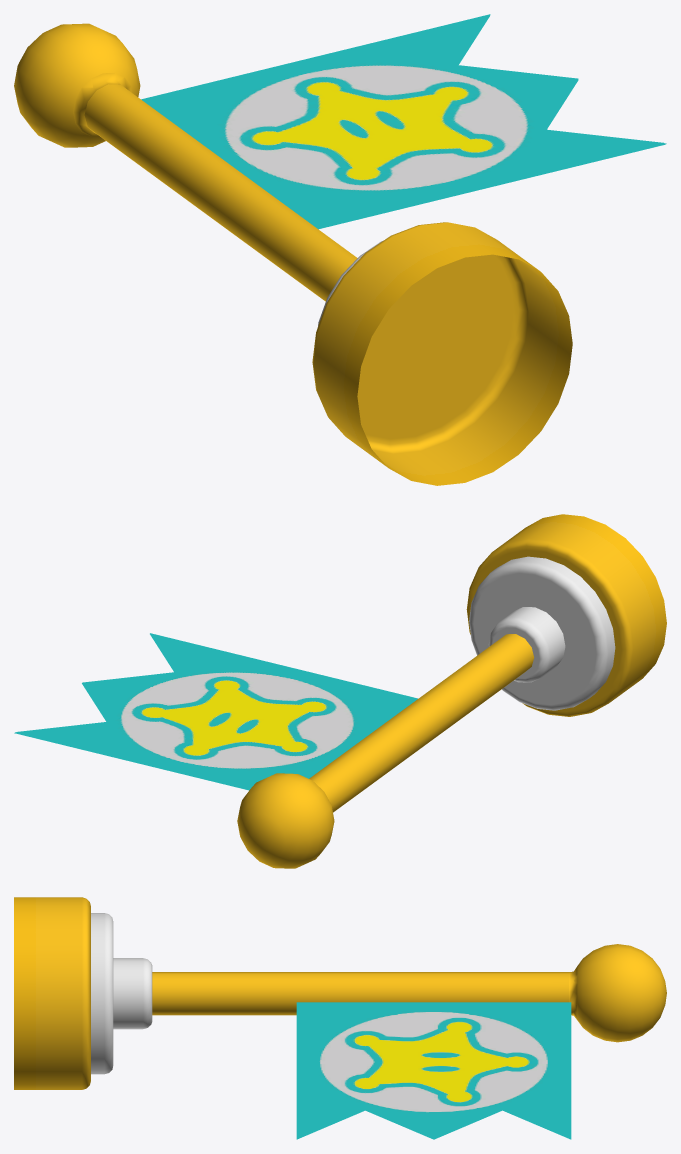
Rendered from flag5.glb.
3 renders of one model, top to bottom at view 1: azimuth 30°, elevation 25°; view 2: azimuth 150°, elevation 25°; view 3: azimuth 270°, elevation 25°, orthographic. The views are drawn at different scales.
Visible parts, largest first — view 1: CheckpointFlag__CheckpointFlagBodyMat00.004; view 2: CheckpointFlag__CheckpointFlagBodyMat00.004; view 3: CheckpointFlag__CheckpointFlagBodyMat00.004.
Boxes of the visible parts, box(x1,y1,x2,y2) form: CheckpointFlag__CheckpointFlagBodyMat00.004: box(14, 14, 666, 485); CheckpointFlag__CheckpointFlagBodyMat00.004: box(14, 514, 666, 868); CheckpointFlag__CheckpointFlagBodyMat00.004: box(14, 897, 666, 1139).
Bounding box in the file's own units: 4.08 × 1.79 × 6.04.
2 materials, 2 textured.
